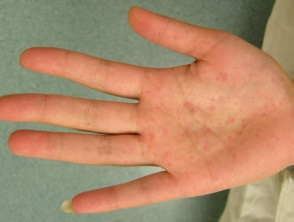SJS-TEN: (157, 56, 294, 193)
